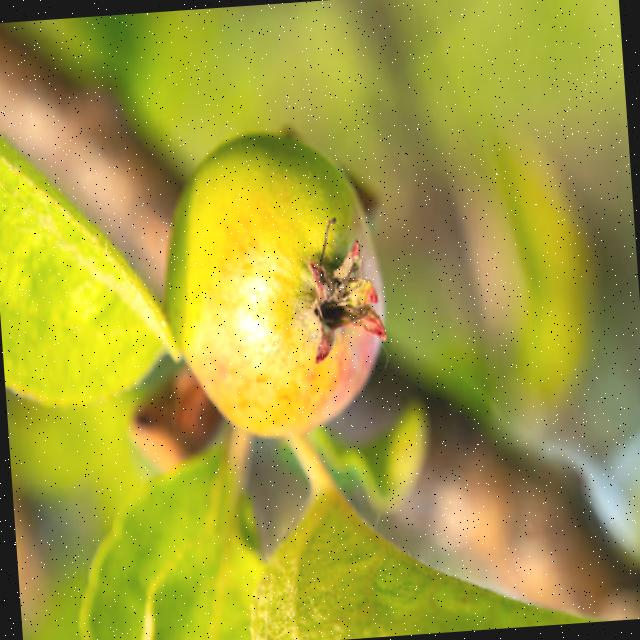Unripe: (147, 130, 390, 449)
